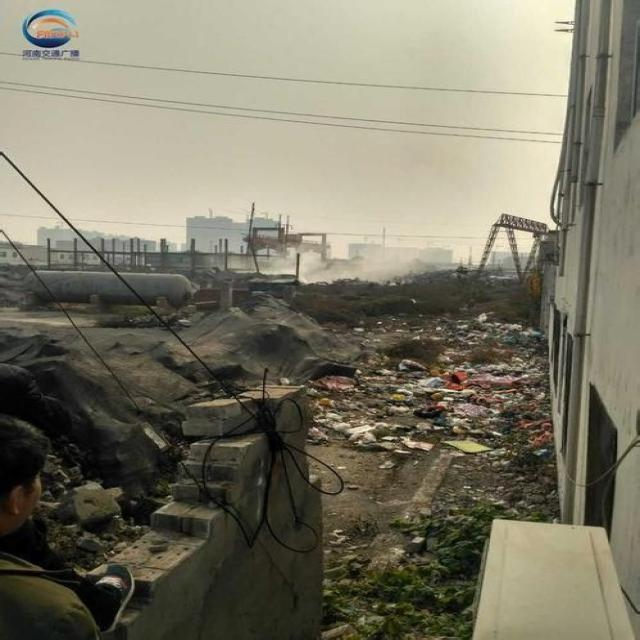Smoke: (255, 232, 443, 288)
